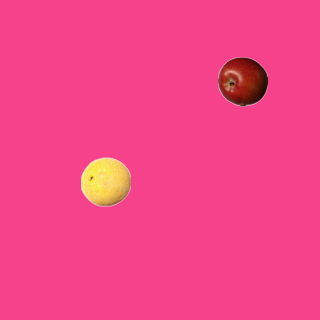Apple Braeburn: (217, 56, 267, 106)
Cantaloupe 1: (80, 156, 130, 206)
